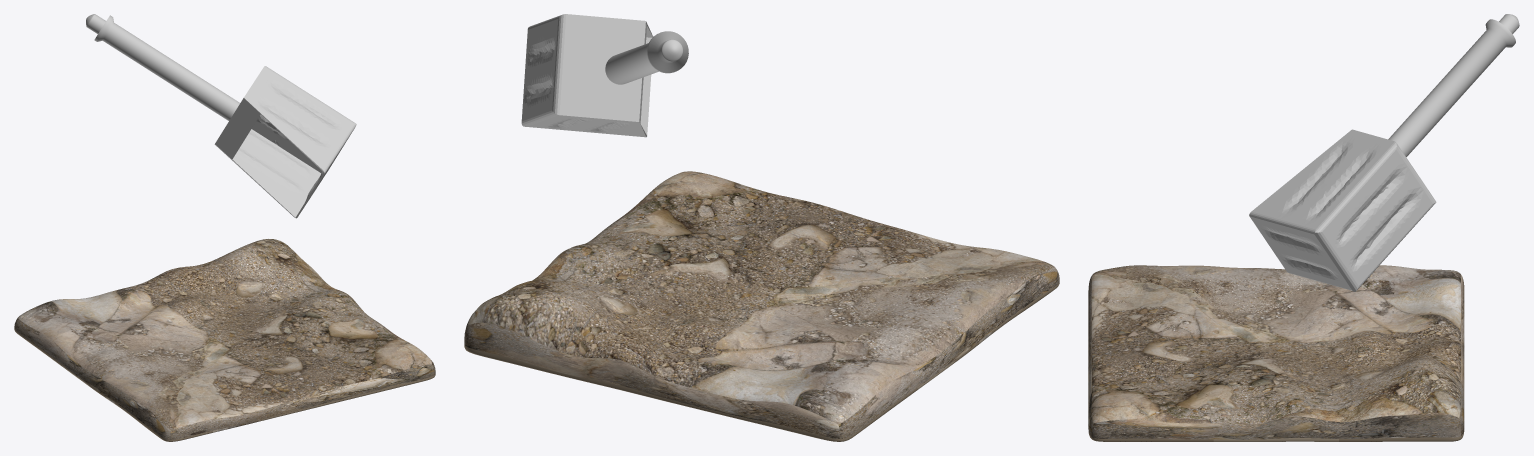
The model's file is scoopBig.gltf.
3 renders of one model, left to right at view 1: azimuth 30°, elevation 25°; view 2: azimuth 150°, elevation 25°; view 3: azimuth 270°, elevation 25°, orthographic. The views are drawn at different scales.
Visible parts, largest first — view 1: Plane, Cube.001, Cylinder.002; view 2: Plane, Cube.001, Cylinder.002; view 3: Plane, Cube.001, Cylinder.002.
Part boxes in pixels (<box>): Plane: <box>14,239,435,441</box>; Cube.001: <box>214,66,356,218</box>; Cylinder.002: <box>86,14,239,120</box>; Plane: <box>464,171,1059,441</box>; Cube.001: <box>521,14,653,137</box>; Cylinder.002: <box>605,31,688,84</box>; Plane: <box>1088,265,1464,441</box>; Cube.001: <box>1249,129,1436,291</box>; Cylinder.002: <box>1388,14,1519,156</box>.
Bounding box in the file's own units: 34.07 × 31.55 × 37.45.
